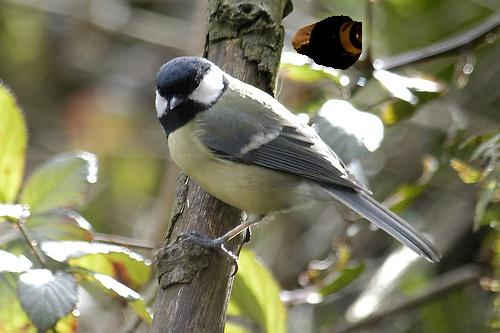tampered: (293, 16, 362, 70)
